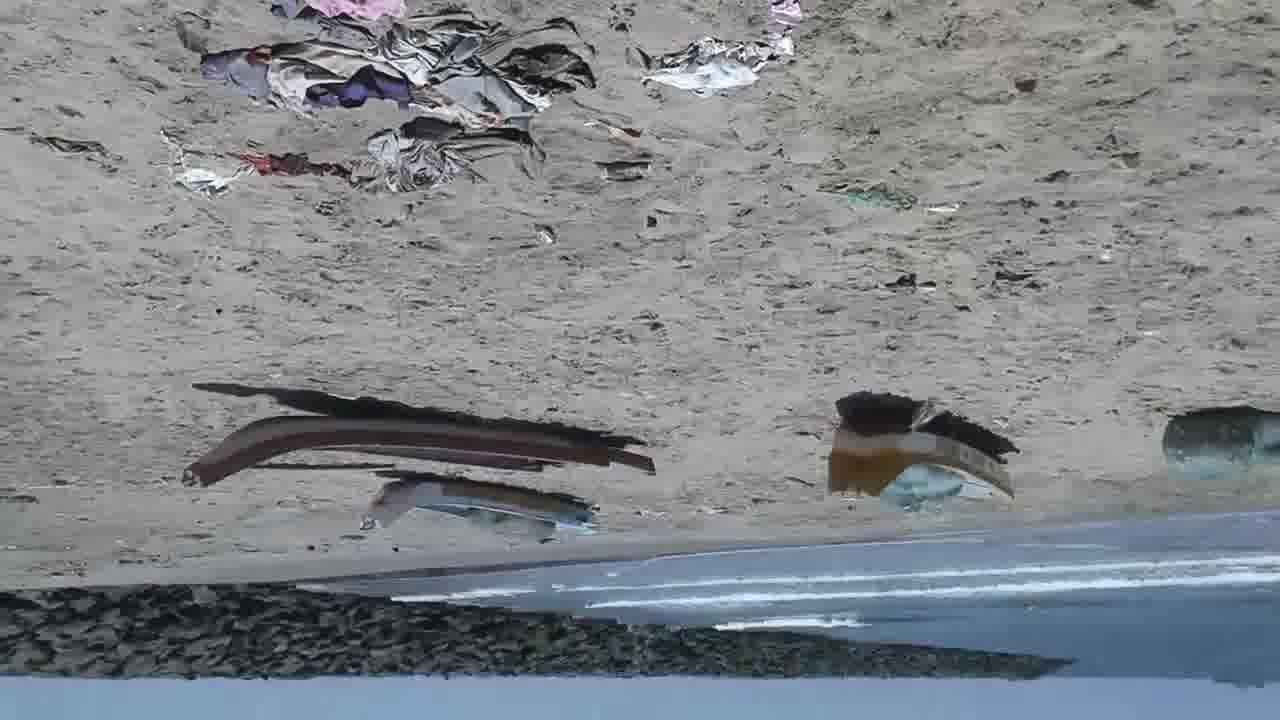large collection of objects: (178, 399, 656, 504), (818, 401, 1018, 520), (359, 479, 591, 549)
obj: (187, 1, 597, 128), (178, 127, 560, 198), (616, 1, 804, 100), (1156, 401, 1279, 481), (19, 127, 124, 173), (876, 468, 968, 514), (828, 180, 922, 215), (470, 510, 552, 547), (267, 461, 395, 474), (596, 162, 654, 184), (530, 222, 560, 246), (1, 488, 39, 505), (924, 202, 967, 216), (390, 544, 400, 554), (307, 544, 314, 552)
sand/background: (1, 504, 1279, 719)
